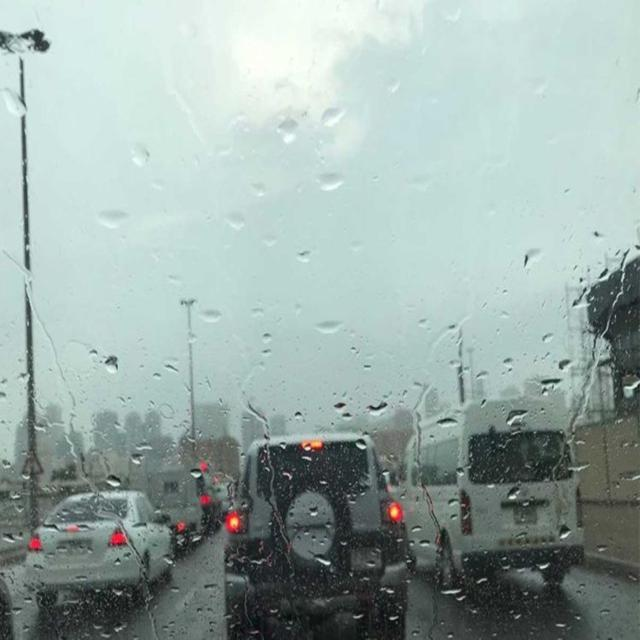car: (227, 440, 410, 632), (23, 486, 170, 600), (133, 462, 204, 546), (201, 463, 224, 540)
truck: (398, 393, 582, 592)
